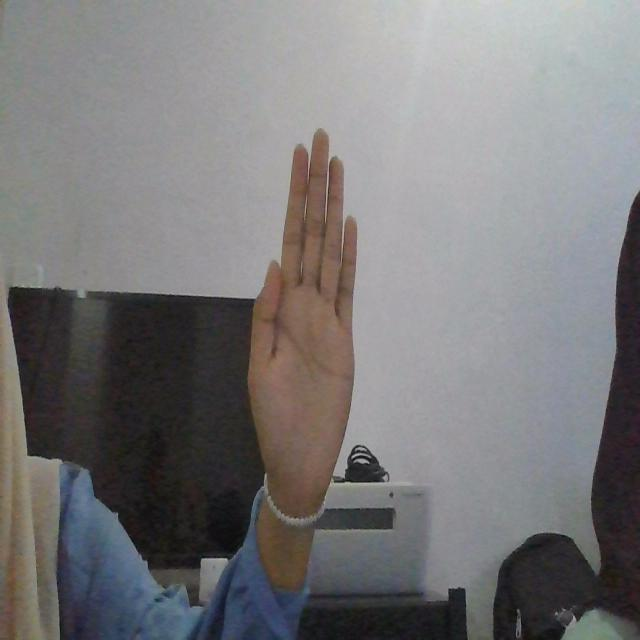hand: (245, 122, 359, 522)
